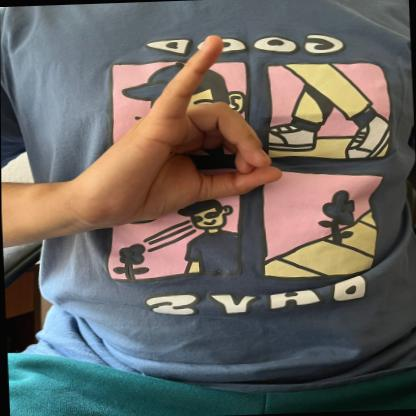D: (96, 27, 292, 231)
